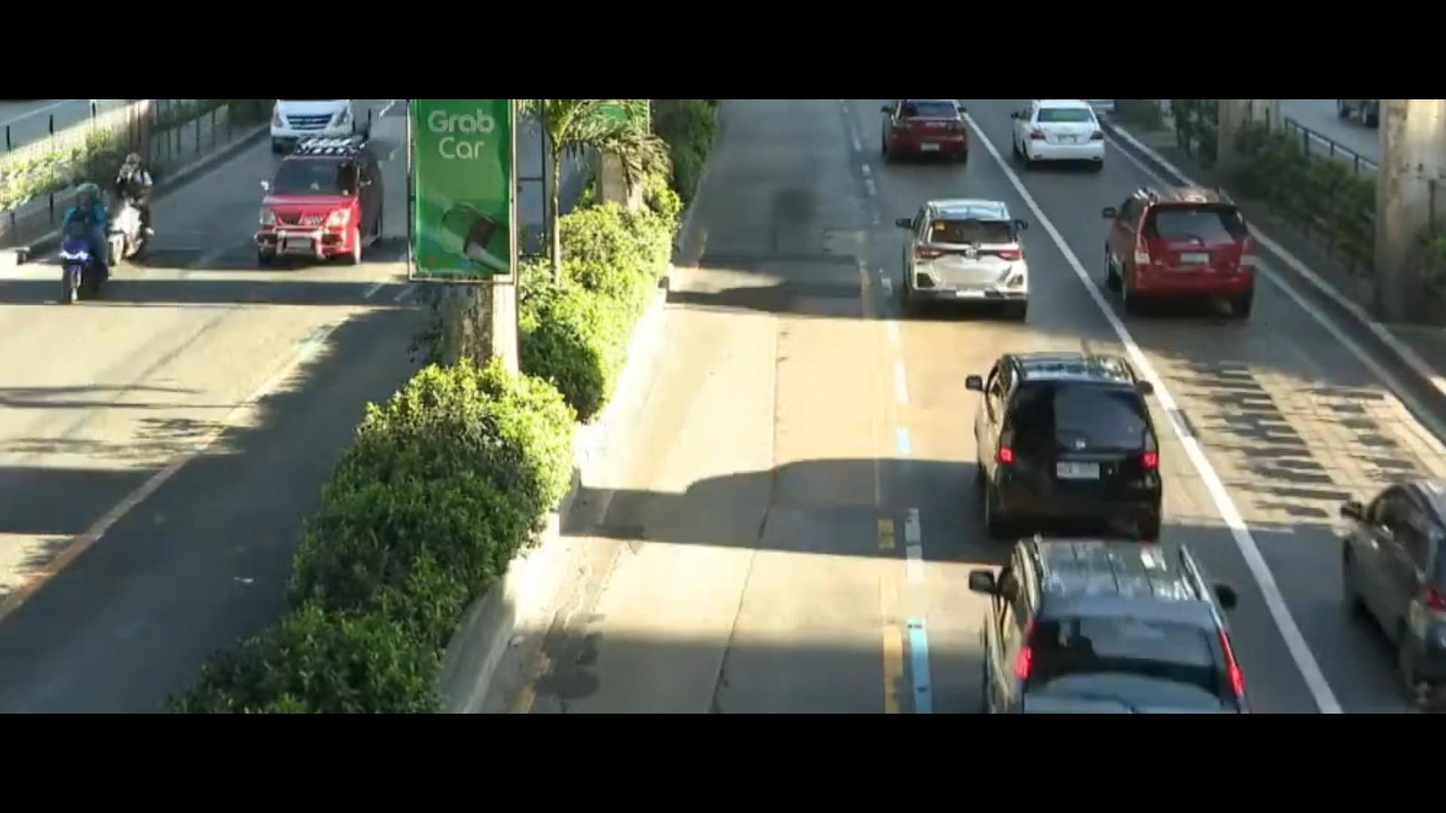Motorcycle: (40, 166, 134, 307), (111, 149, 162, 273)
SUV: (959, 503, 1266, 717), (959, 334, 1193, 553), (864, 187, 1057, 351), (1103, 164, 1300, 312), (239, 141, 380, 282)
Sedan: (1013, 98, 1128, 175), (863, 98, 983, 163)
